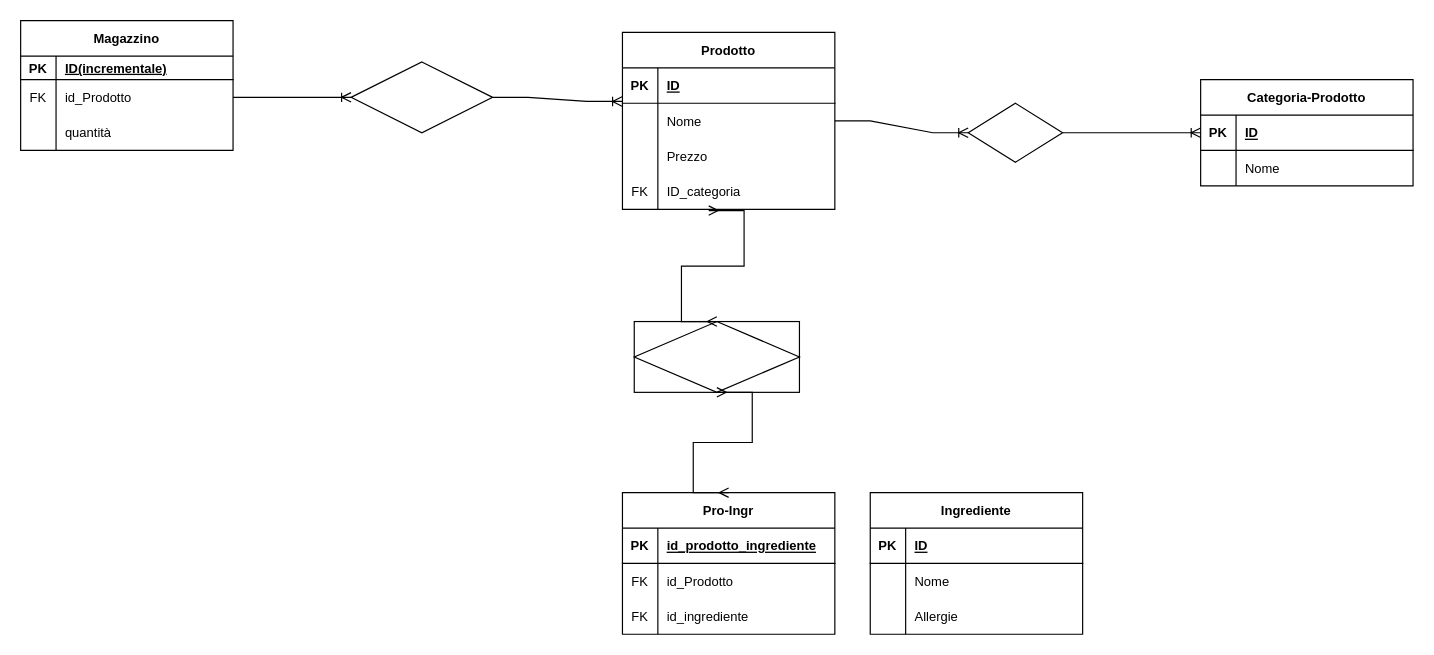
This 1434x655 diagram has some shape labels left out. The centre of each missing label's shape, as x and y in pixels:
Appartiene: pixel 1015 132
Associative Entity: pixel 716 356
Contiene: pixel 421 97
